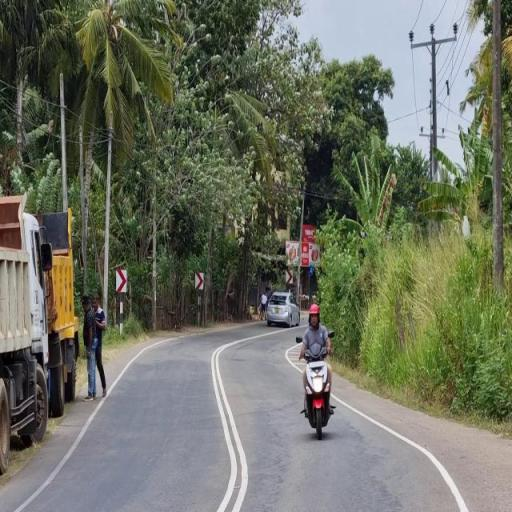double_white_line: (210, 339, 250, 512)
